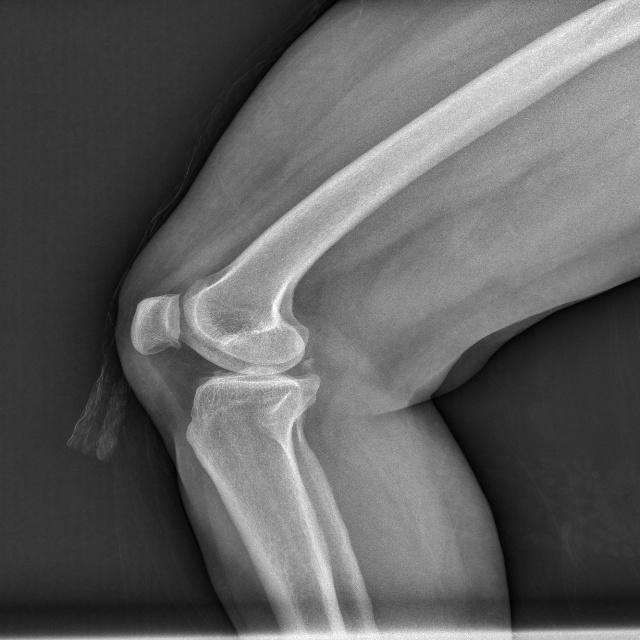Knee: (128, 290, 310, 443)
